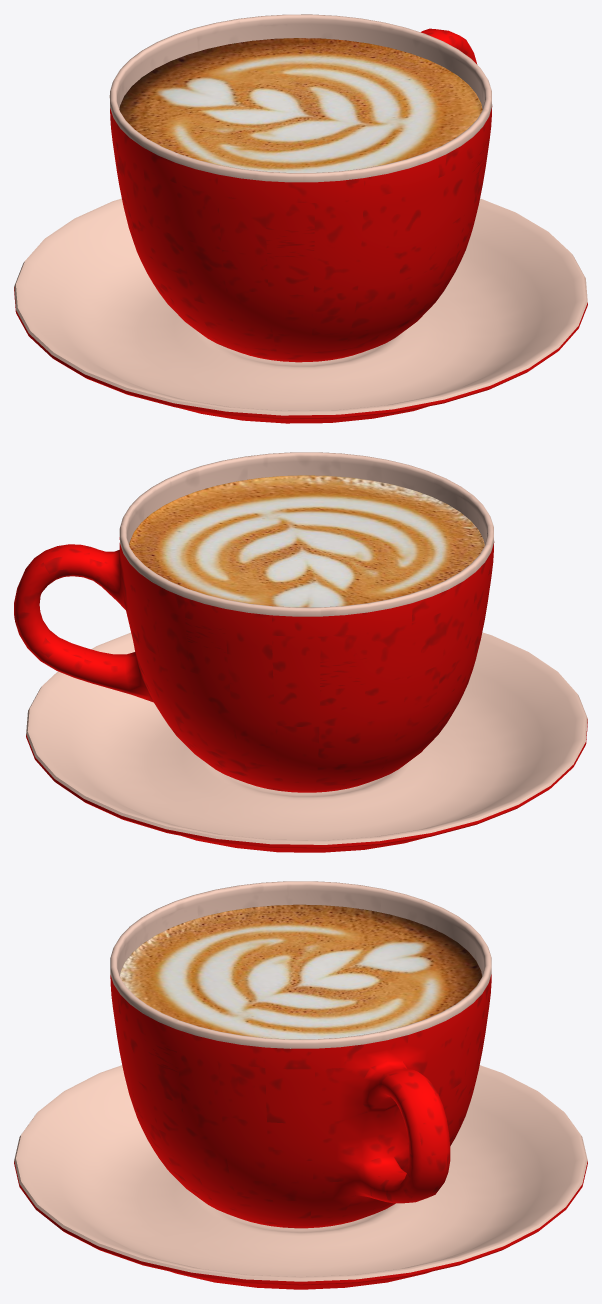
The model's file is cuptest.gltf.
3 views of the same model, one above another, from view 1: azimuth 30°, elevation 25°; view 2: azimuth 150°, elevation 25°; view 3: azimuth 270°, elevation 25° (orthographic). The views are drawn at different scales.
Parts seen in each view (by area): view 1: cup, pisin, liquid; view 2: cup, pisin, liquid; view 3: cup, pisin, liquid.
Part boxes in pixels (x1=…): cup: x1=109, y1=14, x2=492, y2=362; pisin: x1=14, y1=198, x2=587, y2=423; liquid: x1=119, y1=38, x2=482, y2=172; cup: x1=14, y1=452, x2=494, y2=792; pisin: x1=26, y1=632, x2=587, y2=852; liquid: x1=129, y1=475, x2=484, y2=607; cup: x1=110, y1=881, x2=491, y2=1228; pisin: x1=14, y1=1065, x2=587, y2=1289; liquid: x1=120, y1=904, x2=481, y2=1039.
Bounding box in the file's own units: 2.94 × 1.37 × 2.94.
3 materials, 3 textured.
